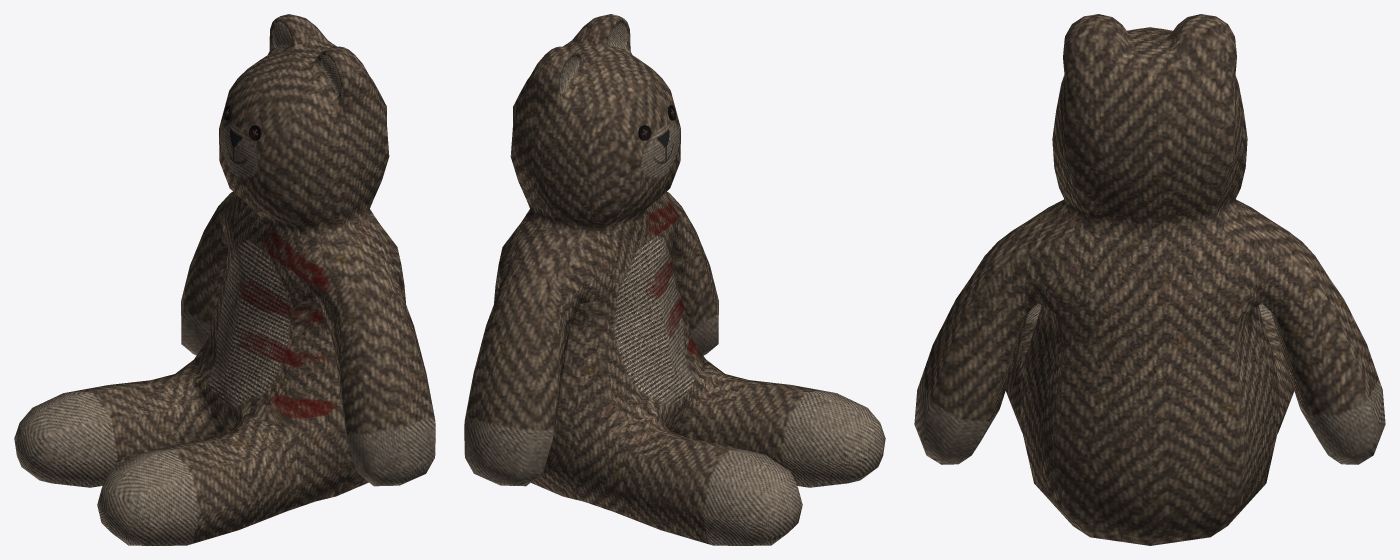
File: teddy_bear__low_poly.glb
3 views of the same model, side by side, from view 1: azimuth 30°, elevation 25°; view 2: azimuth 150°, elevation 25°; view 3: azimuth 270°, elevation 25° (orthographic). The views are drawn at different scales.
Visible parts, largest first — view 1: Bear_LowPoly; view 2: Bear_LowPoly; view 3: Bear_LowPoly.
Boxes of the visible parts, x1,y1,x2,y2 form: Bear_LowPoly: (14, 14, 435, 545); Bear_LowPoly: (464, 14, 885, 545); Bear_LowPoly: (914, 14, 1385, 545).
Size of the model in its own units: 0.1894 by 0.2331 by 0.1961.
Materials: 1 (1 with a texture image).
